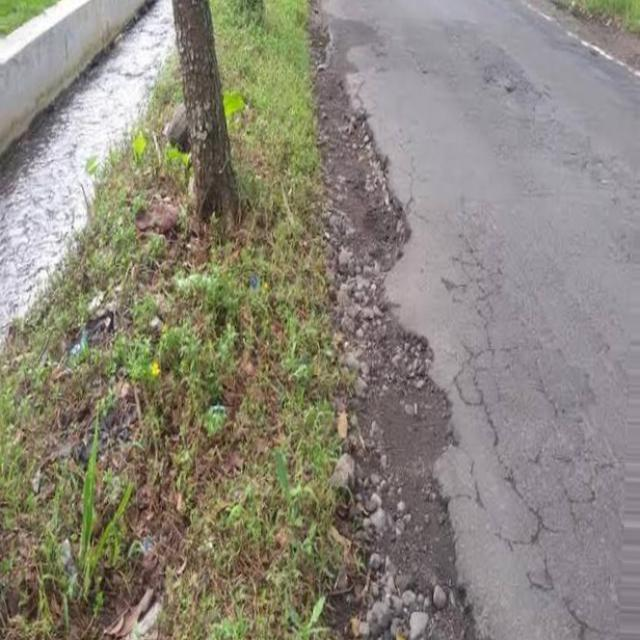Pinggir: (316, 130, 488, 640)
